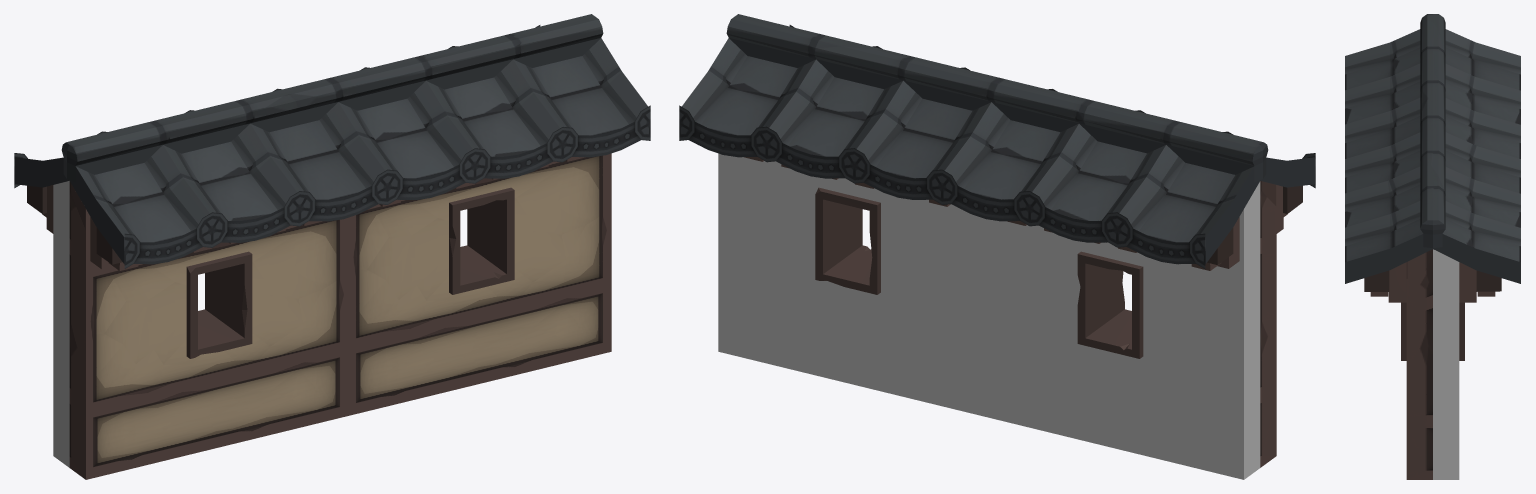
Rendered from SM_Bld_Fence_Dobei_Double_01_Alt_01.fbx.
3 views of the same model, side by side, from view 1: azimuth 30°, elevation 25°; view 2: azimuth 150°, elevation 25°; view 3: azimuth 270°, elevation 25° (orthographic). The views are drawn at different scales.
Visible parts, largest first — view 1: SM_Bld_Fence_Dobei_Double_01_Alt_01; view 2: SM_Bld_Fence_Dobei_Double_01_Alt_01; view 3: SM_Bld_Fence_Dobei_Double_01_Alt_01.
Part boxes in pixels (x1,y1,x2,y2): SM_Bld_Fence_Dobei_Double_01_Alt_01: (14, 14, 650, 479); SM_Bld_Fence_Dobei_Double_01_Alt_01: (679, 14, 1315, 479); SM_Bld_Fence_Dobei_Double_01_Alt_01: (1345, 14, 1520, 479).
Bounding box in the file's own units: 505 × 294 × 182.
